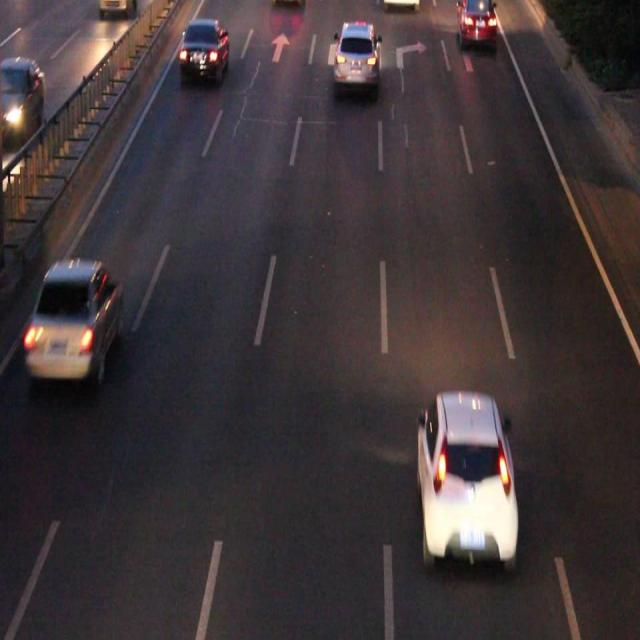car: (419, 394, 514, 558), (29, 261, 120, 379), (334, 23, 379, 84), (182, 21, 228, 75), (457, 1, 492, 42)
